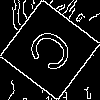C: (25, 25, 83, 81)
